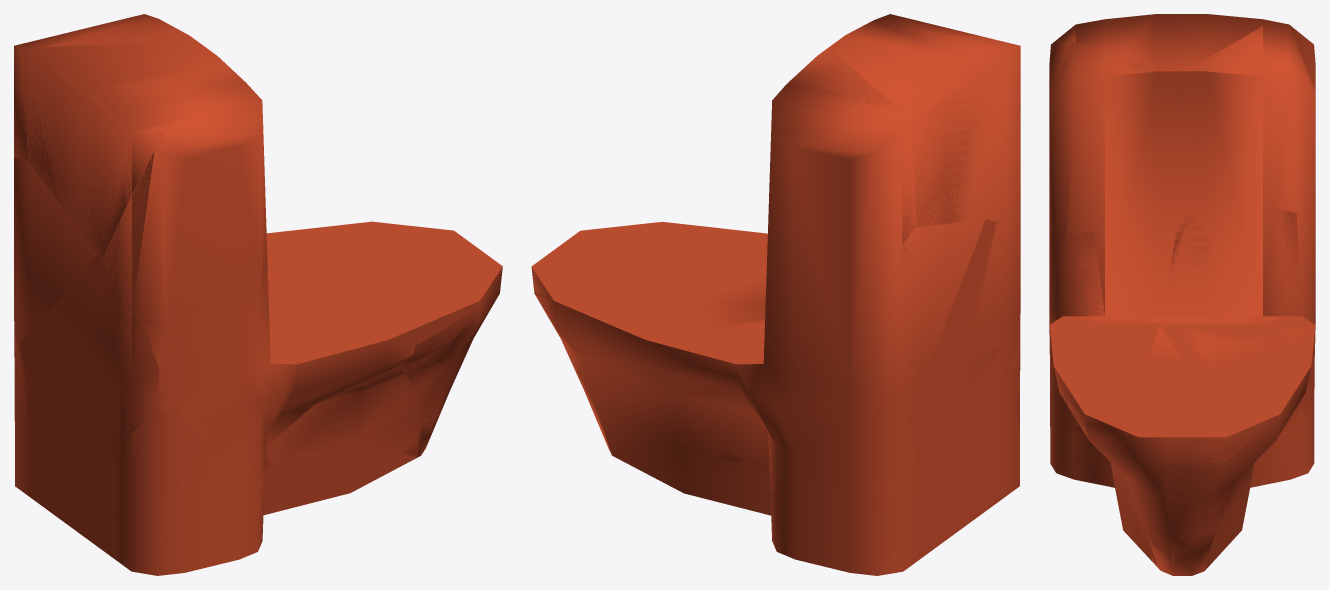
The model's file is P_Toilettes_Colored_Breakable.fbx.
3 views of the same model, side by side, from view 1: azimuth 30°, elevation 25°; view 2: azimuth 150°, elevation 25°; view 3: azimuth 270°, elevation 25° (orthographic). The views are drawn at different scales.
Visible parts, largest first — view 1: P_Toilettes_Colored_Breakable, P_Toilettes_Colored_Breakable_cell.012, P_Toilettes_Colored_Breakable_cell.005, P_Toilettes_Colored_Breakable_cell.007, P_Toilettes_Colored_Breakable_cell.013, P_Toilettes_Colored_Breakable_cell.001, P_Toilettes_Colored_Breakable_cell.003, P_Toilettes_Colored_Breakable_cell.017, P_Toilettes_Colored_Breakable_cell, P_Toilettes_Colored_Breakable_cell.021, P_Toilettes_Colored_Breakable_cell.018, P_Toilettes_Colored_Breakable_cell.015 (+3 smaller); view 2: P_Toilettes_Colored_Breakable, P_Toilettes_Colored_Breakable_cell.007, P_Toilettes_Colored_Breakable_cell.001, P_Toilettes_Colored_Breakable_cell.018, P_Toilettes_Colored_Breakable_cell.017, P_Toilettes_Colored_Breakable_cell.008, P_Toilettes_Colored_Breakable_cell.006, P_Toilettes_Colored_Breakable_cell.015, P_Toilettes_Colored_Breakable_cell.003, P_Toilettes_Colored_Breakable_cell.022, P_Toilettes_Colored_Breakable_cell.012, P_Toilettes_Colored_Breakable_cell.019; view 3: P_Toilettes_Colored_Breakable, P_Toilettes_Colored_Breakable_cell.017, P_Toilettes_Colored_Breakable_cell.008, P_Toilettes_Colored_Breakable_cell, P_Toilettes_Colored_Breakable_cell.012, P_Toilettes_Colored_Breakable_cell.005, P_Toilettes_Colored_Breakable_cell.015, P_Toilettes_Colored_Breakable_cell.018, P_Toilettes_Colored_Breakable_cell.013, P_Toilettes_Colored_Breakable_cell.011, P_Toilettes_Colored_Breakable_cell.020, P_Toilettes_Colored_Breakable_cell.014 (+1 smaller).
Boxes of the visible parts, left/top/right/bottom form: P_Toilettes_Colored_Breakable: left=14, top=14, right=502, bottom=575; P_Toilettes_Colored_Breakable_cell.012: left=103, top=58, right=267, bottom=327; P_Toilettes_Colored_Breakable_cell.005: left=145, top=273, right=420, bottom=478; P_Toilettes_Colored_Breakable_cell.007: left=24, top=50, right=211, bottom=259; P_Toilettes_Colored_Breakable_cell.013: left=268, top=365, right=421, bottom=505; P_Toilettes_Colored_Breakable_cell.001: left=21, top=255, right=108, bottom=446; P_Toilettes_Colored_Breakable_cell.003: left=80, top=276, right=174, bottom=465; P_Toilettes_Colored_Breakable_cell.017: left=324, top=221, right=486, bottom=373; P_Toilettes_Colored_Breakable_cell: left=407, top=267, right=502, bottom=423; P_Toilettes_Colored_Breakable_cell.021: left=120, top=414, right=215, bottom=496; P_Toilettes_Colored_Breakable_cell.018: left=14, top=14, right=199, bottom=161; P_Toilettes_Colored_Breakable_cell.015: left=266, top=225, right=336, bottom=273; P_Toilettes_Colored_Breakable: left=531, top=16, right=1020, bottom=575; P_Toilettes_Colored_Breakable_cell.007: left=911, top=61, right=1020, bottom=226; P_Toilettes_Colored_Breakable_cell.001: left=909, top=219, right=996, bottom=479; P_Toilettes_Colored_Breakable_cell.018: left=772, top=48, right=916, bottom=253; P_Toilettes_Colored_Breakable_cell.017: left=531, top=222, right=731, bottom=311; P_Toilettes_Colored_Breakable_cell.008: left=696, top=279, right=796, bottom=353; P_Toilettes_Colored_Breakable_cell.006: left=770, top=341, right=931, bottom=493; P_Toilettes_Colored_Breakable_cell.015: left=580, top=300, right=712, bottom=357; P_Toilettes_Colored_Breakable_cell.003: left=939, top=340, right=1020, bottom=494; P_Toilettes_Colored_Breakable_cell.022: left=772, top=480, right=956, bottom=575; P_Toilettes_Colored_Breakable_cell.012: left=846, top=14, right=1003, bottom=223; P_Toilettes_Colored_Breakable_cell.019: left=771, top=490, right=914, bottom=563; P_Toilettes_Colored_Breakable: left=1049, top=14, right=1315, bottom=575; P_Toilettes_Colored_Breakable_cell.017: left=1064, top=379, right=1288, bottom=462; P_Toilettes_Colored_Breakable_cell.008: left=1149, top=209, right=1315, bottom=429; P_Toilettes_Colored_Breakable_cell: left=1082, top=421, right=1222, bottom=551; P_Toilettes_Colored_Breakable_cell.012: left=1049, top=40, right=1204, bottom=233; P_Toilettes_Colored_Breakable_cell.005: left=1049, top=227, right=1104, bottom=425; P_Toilettes_Colored_Breakable_cell.015: left=1215, top=336, right=1314, bottom=400; P_Toilettes_Colored_Breakable_cell.018: left=1188, top=23, right=1287, bottom=77; P_Toilettes_Colored_Breakable_cell.013: left=1111, top=463, right=1156, bottom=564; P_Toilettes_Colored_Breakable_cell.011: left=1146, top=481, right=1235, bottom=575; P_Toilettes_Colored_Breakable_cell.020: left=1050, top=381, right=1072, bottom=474; P_Toilettes_Colored_Breakable_cell.014: left=1252, top=430, right=1296, bottom=482.
Size of the model in its own units: 183 by 194 by 115.
